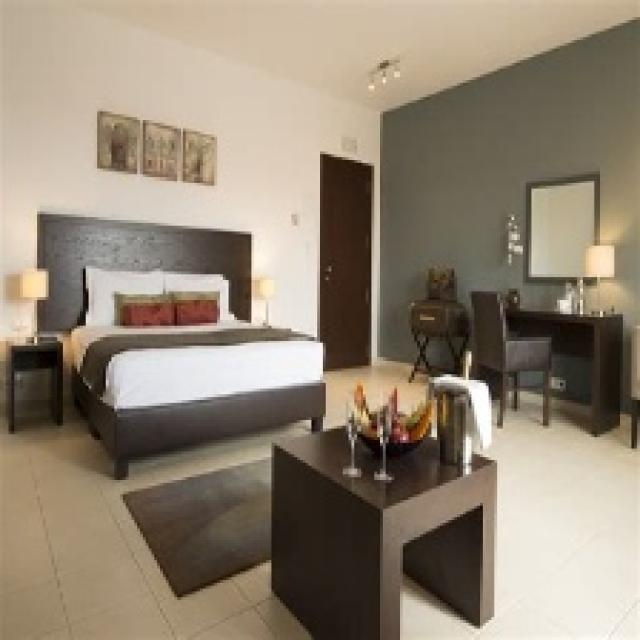Bed: (34, 212, 326, 477)
